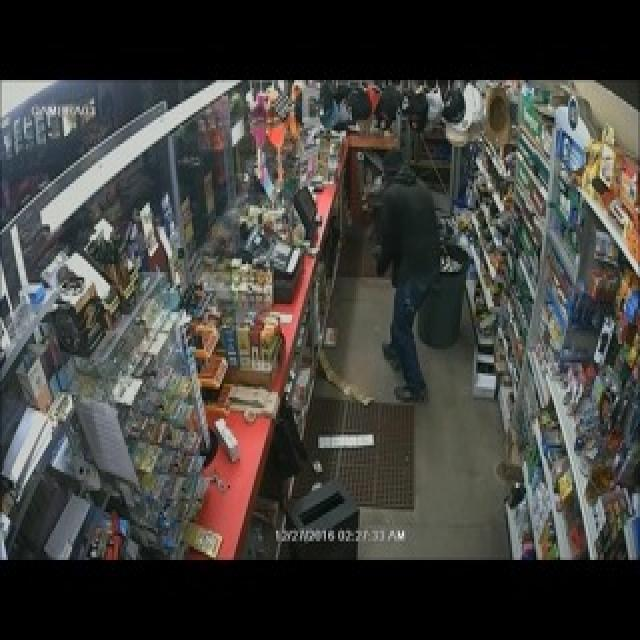thief: (364, 153, 444, 344)
